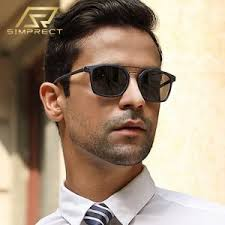g.y: (136, 67, 172, 106)
